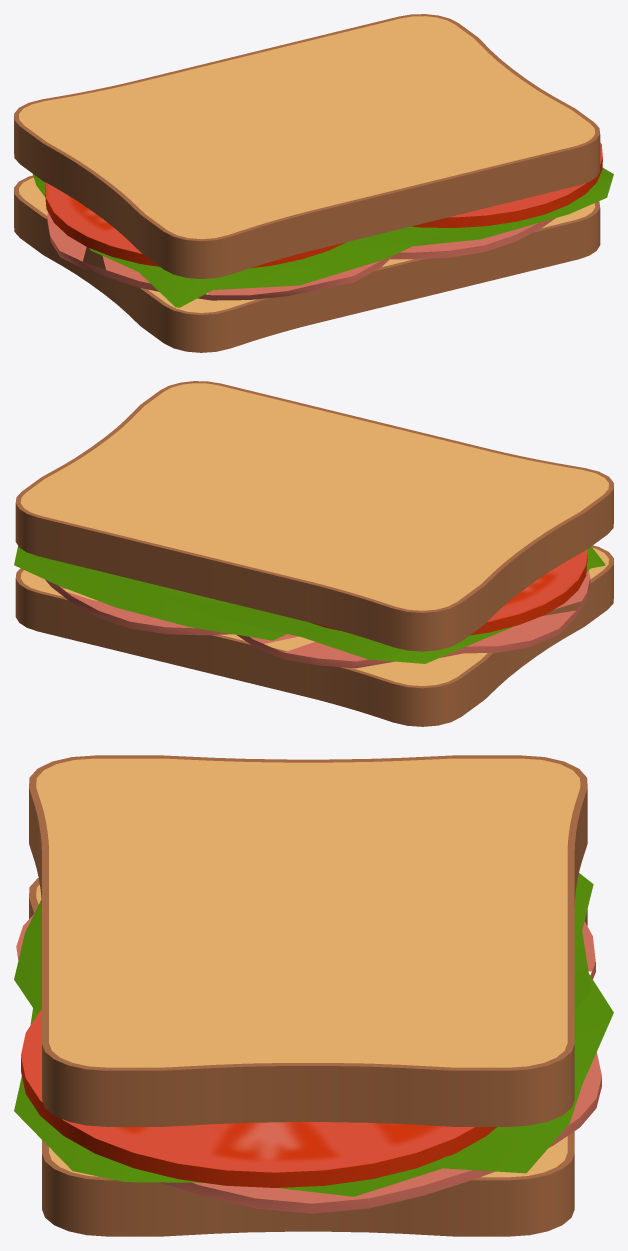
Rendered from sandwich.glb.
3 renders of one model, top to bottom at view 1: azimuth 30°, elevation 25°; view 2: azimuth 150°, elevation 25°; view 3: azimuth 270°, elevation 25°, orthographic. The views are drawn at different scales.
Visible parts, largest first — view 1: Cube.001, Cube, Plane.001, Cylinder.001, Cylinder.003, Cylinder.002, Plane, Cylinder; view 2: Cube.001, Cube, Plane, Plane.001, Cylinder.001, Cylinder.003, Cylinder; view 3: Cube.001, Cube, Cylinder.002, Plane, Cylinder, Plane.001, Cylinder.001.
Boxes of the visible parts, x1,y1,x2,y2 form: Cube.001: (14, 14, 600, 278); Cube: (14, 175, 600, 352); Plane.001: (33, 174, 447, 307); Cylinder.001: (47, 212, 393, 300); Cylinder.003: (45, 182, 346, 267); Cylinder.002: (411, 142, 602, 227); Plane: (413, 168, 613, 246); Cylinder: (390, 218, 555, 259); Cube.001: (15, 381, 613, 651); Cube: (15, 545, 613, 726); Plane: (14, 546, 286, 640); Plane.001: (164, 546, 605, 663); Cylinder.001: (236, 571, 590, 668); Cylinder.003: (310, 549, 587, 635); Cylinder: (45, 580, 232, 635); Cube.001: (29, 755, 587, 1126); Cube: (29, 878, 587, 1236); Cylinder.002: (21, 1009, 496, 1187); Plane: (14, 974, 613, 1196); Cylinder: (160, 1052, 601, 1213); Plane.001: (14, 873, 593, 1014); Cylinder.001: (16, 914, 595, 979).
Size of the model in its own units: 2.99 by 0.6316 by 2.07.
5 materials, 1 textured.
